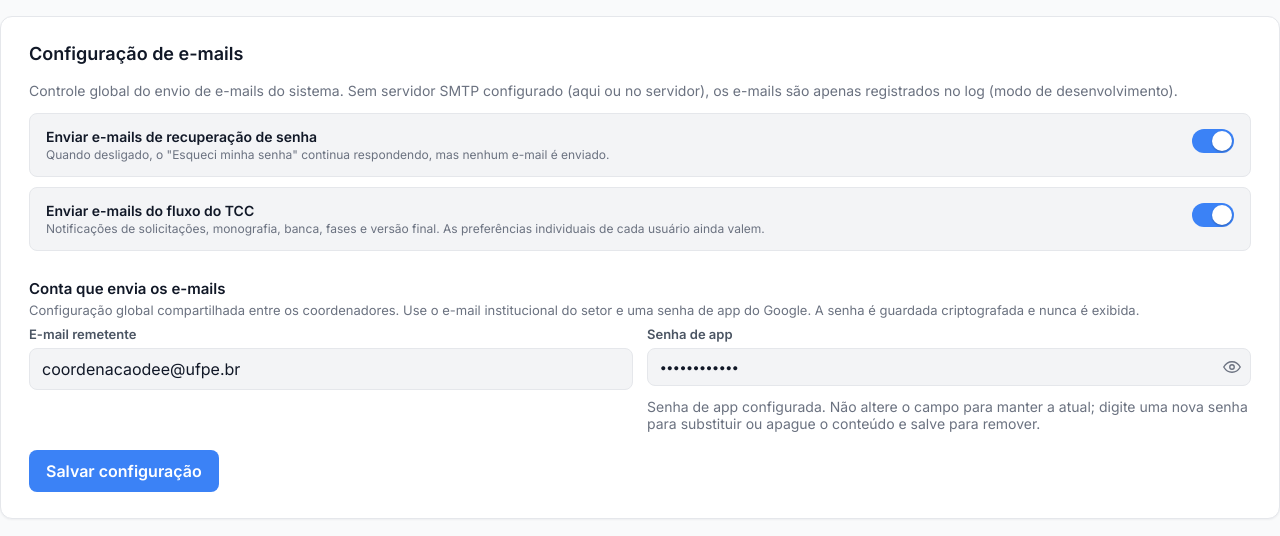
Scenario: Revelar a senha de app pelo olho (sem modal) › focar para editar descarta a senha revelada
The image size is (1280, 536).
Expected: the heading "Conta que envia os e-mails" is shown, [29,279,226,298]
Click the button named "Mostrar senha de app" at (1231, 367), box [1217,353,1245,381]
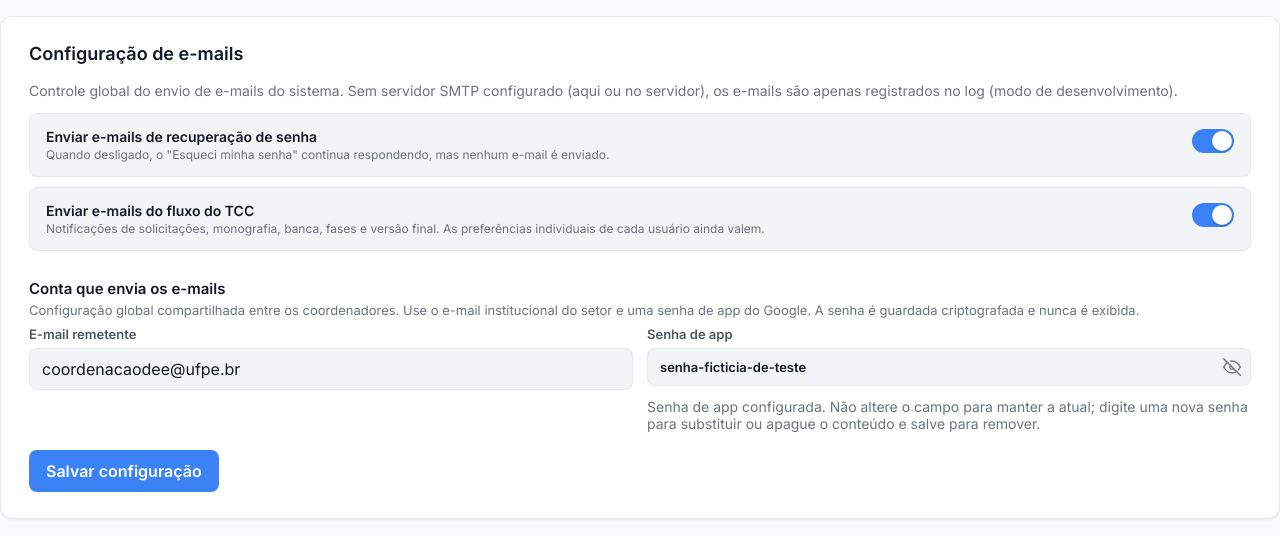
Expected: the field showing "senha-ficticia-de-teste" is shown
Focus the field labelled "Senha de app" at (949, 367), box [647,348,1251,386]
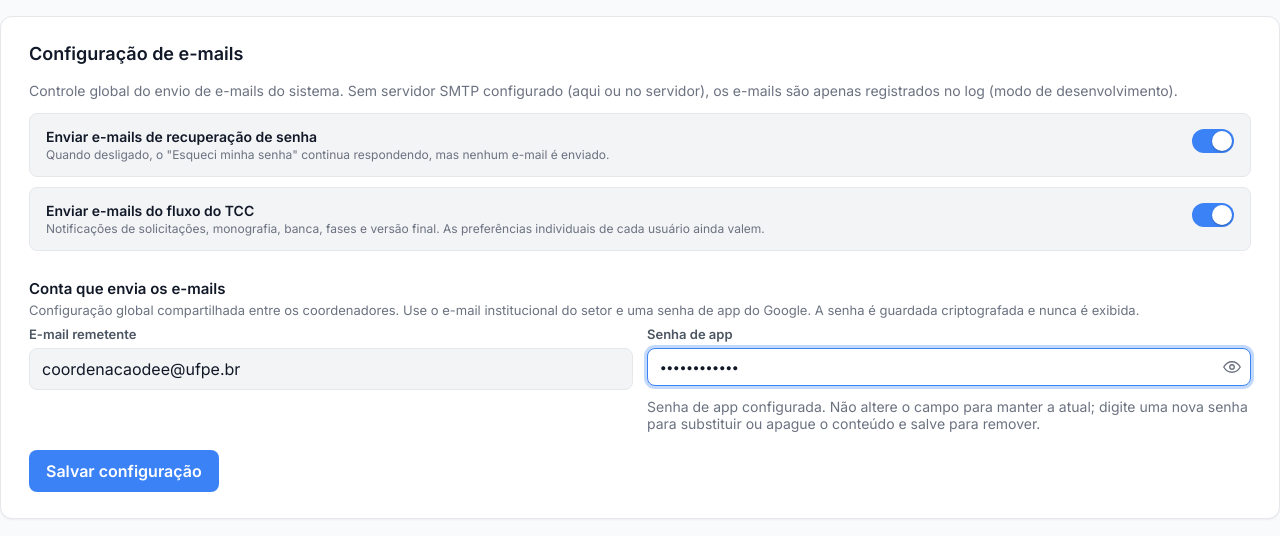
Expected: the field showing "senha-ficticia-de-teste" is not shown
Expected: the password field labelled "Senha de app" holds "••••••••••••", [647,348,1251,386]
